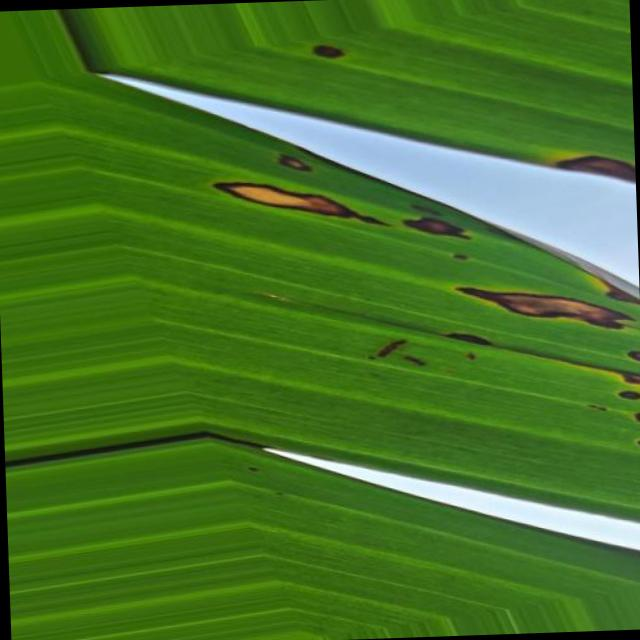Banana_Black_Sigatoka: (218, 111, 640, 415)
